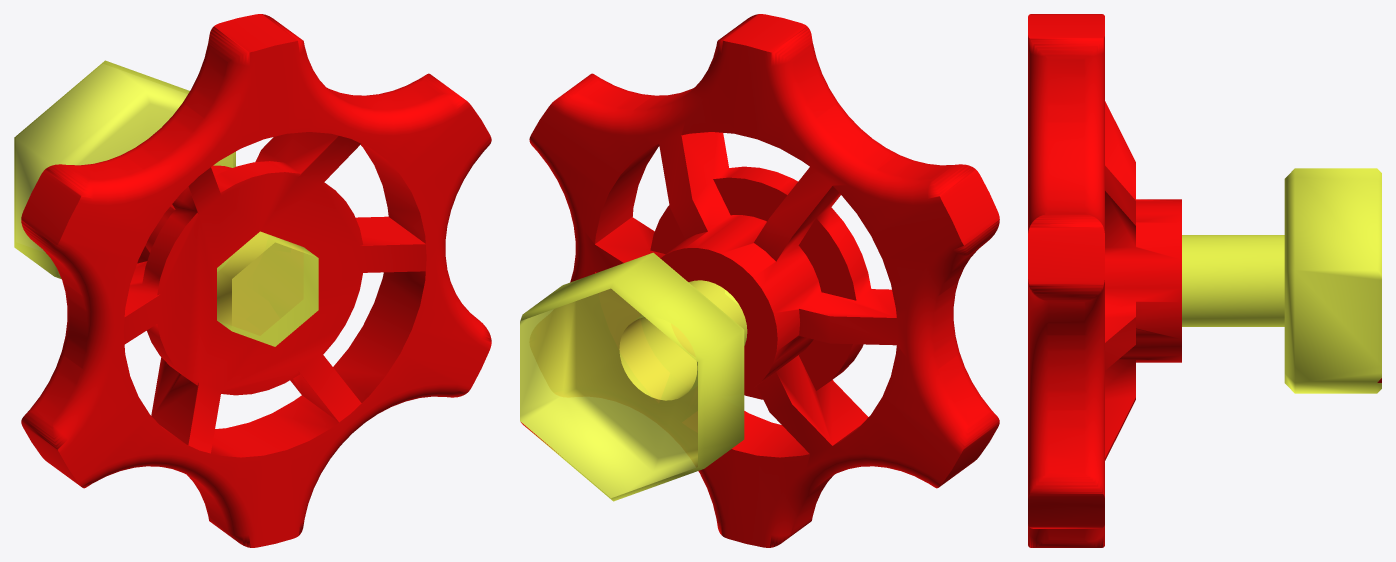
The model's file is valve.fbx.
3 views of the same model, side by side, from view 1: azimuth 30°, elevation 25°; view 2: azimuth 150°, elevation 25°; view 3: azimuth 270°, elevation 25° (orthographic). The views are drawn at different scales.
Visible parts, largest first — view 1: original_1; view 2: original_1; view 3: original_1.
Part boxes in pixels (x1,y1,x2,y2): original_1: [14, 14, 491, 547]; original_1: [520, 14, 999, 547]; original_1: [1028, 14, 1381, 547].
Size of the model in its own units: 288 by 315 by 197.
